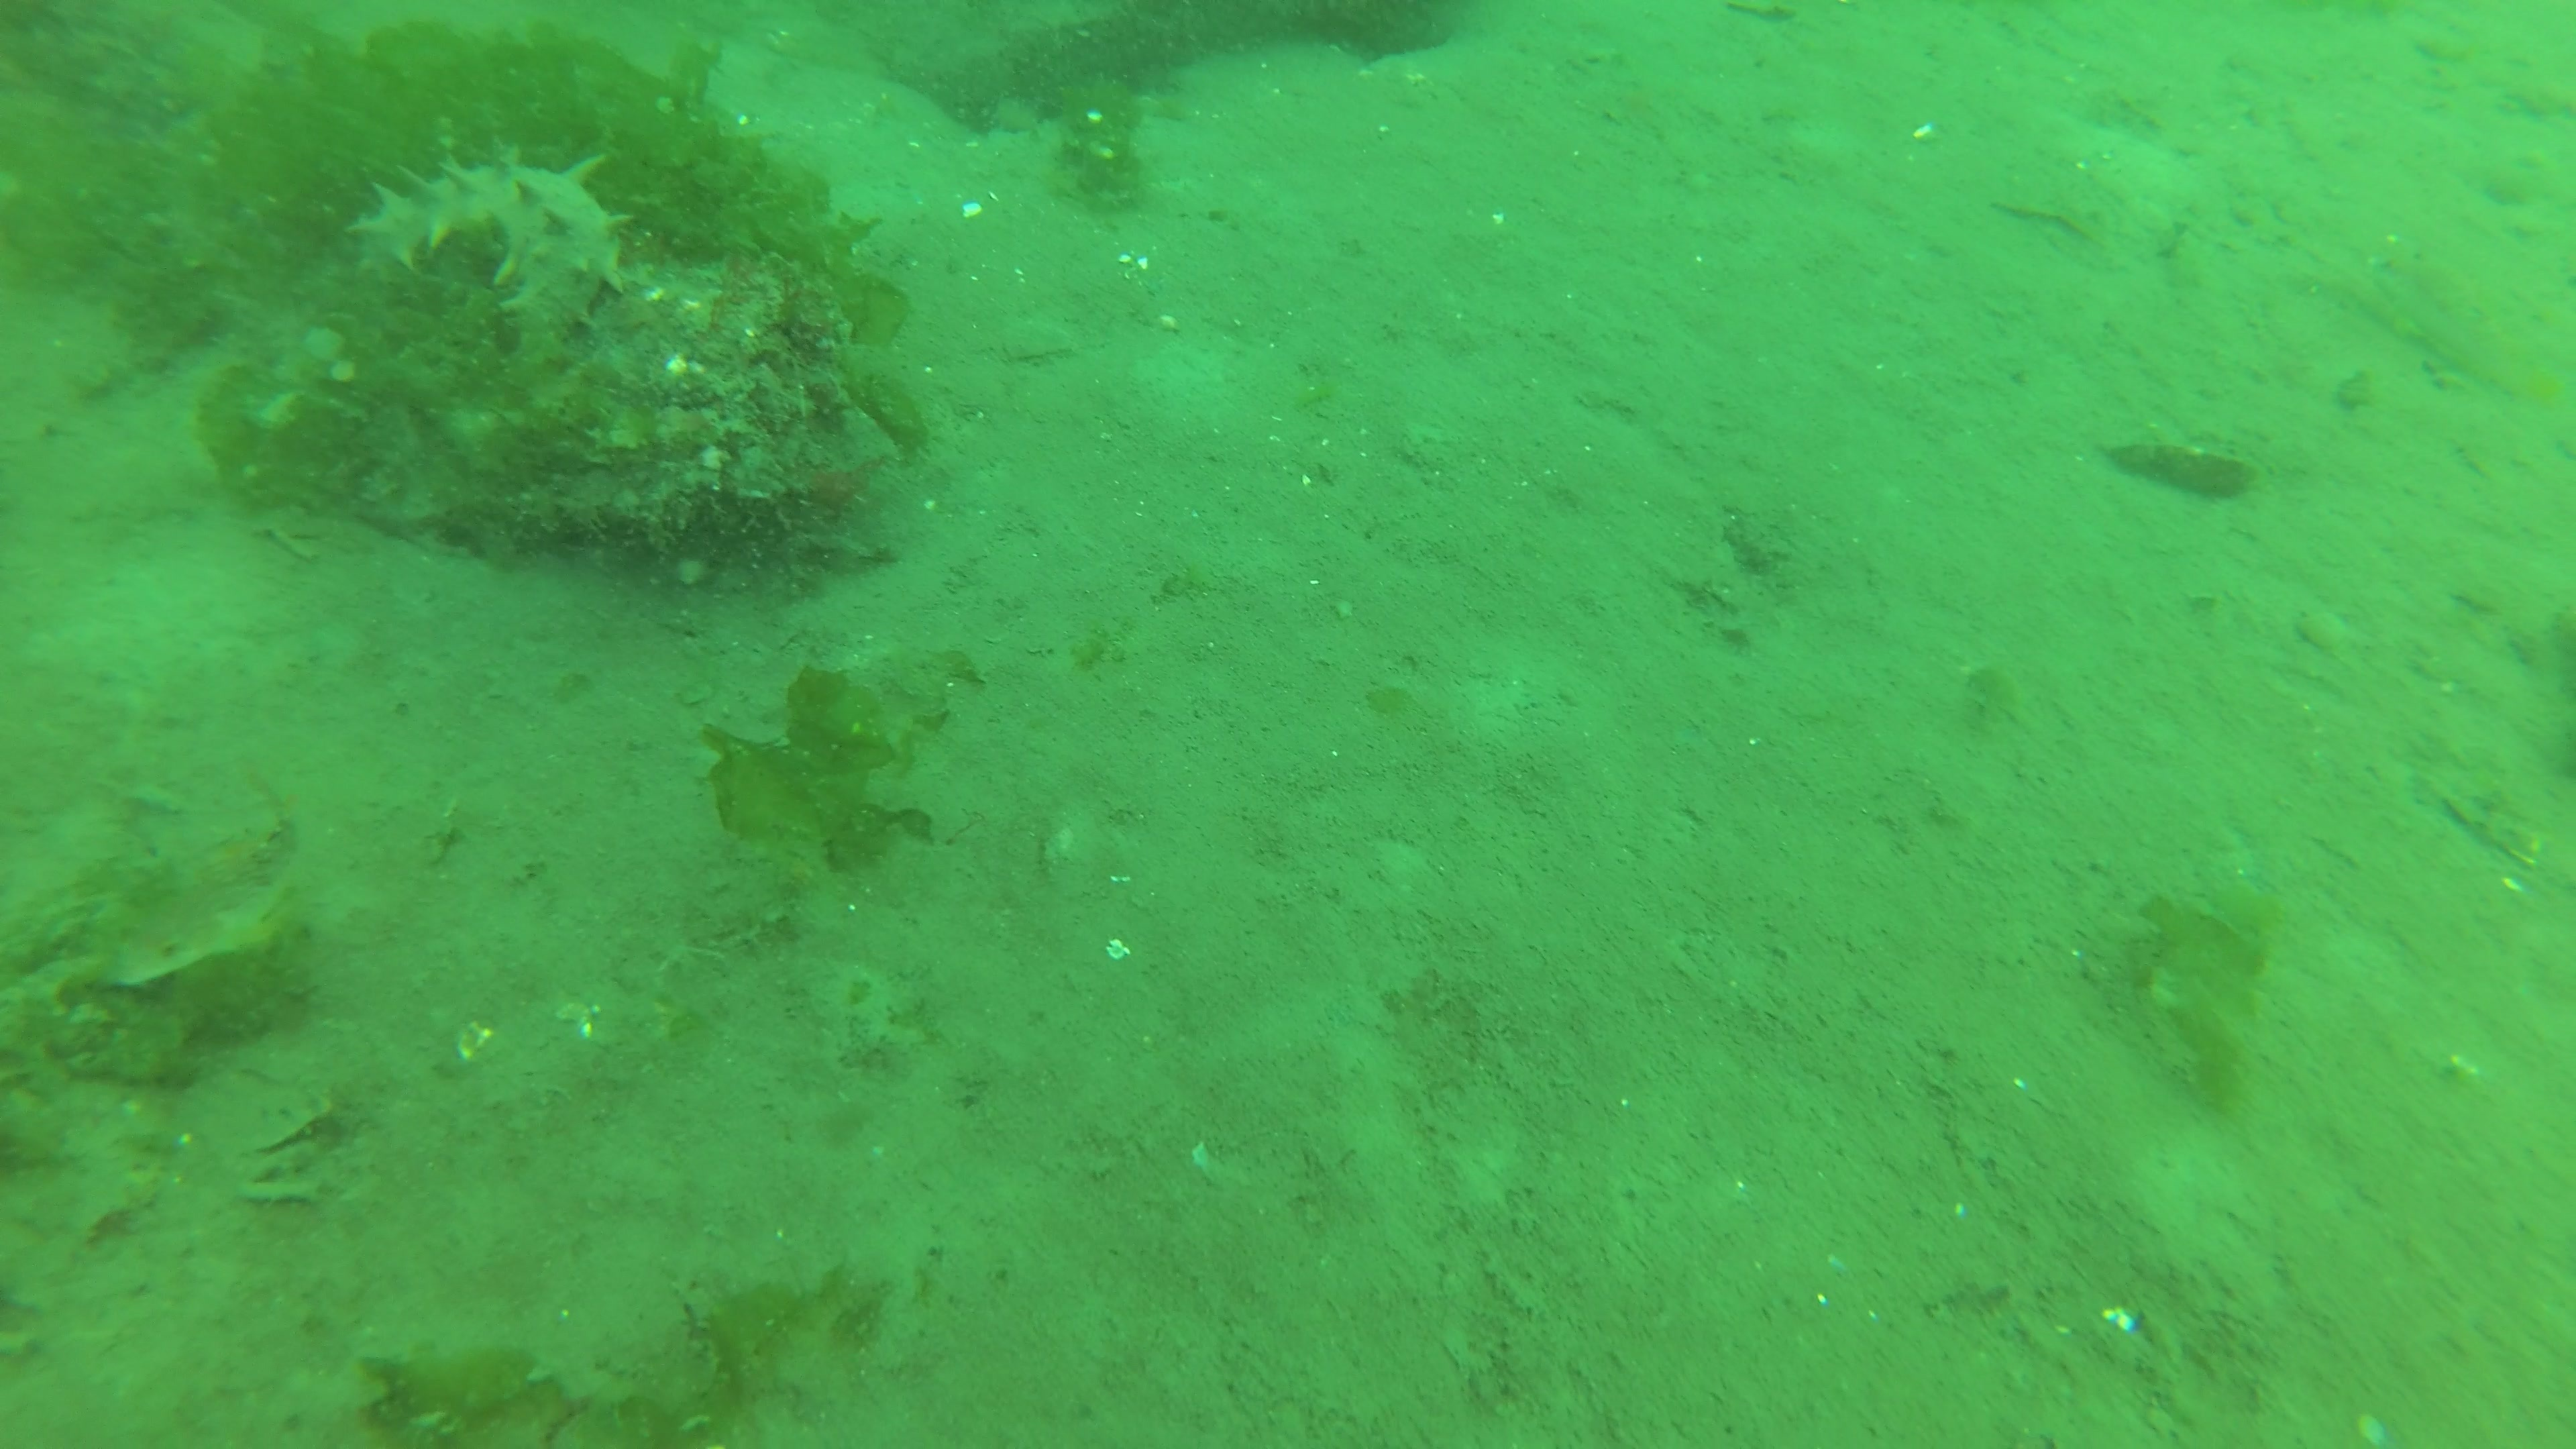holothurian: (341, 150, 628, 349)
